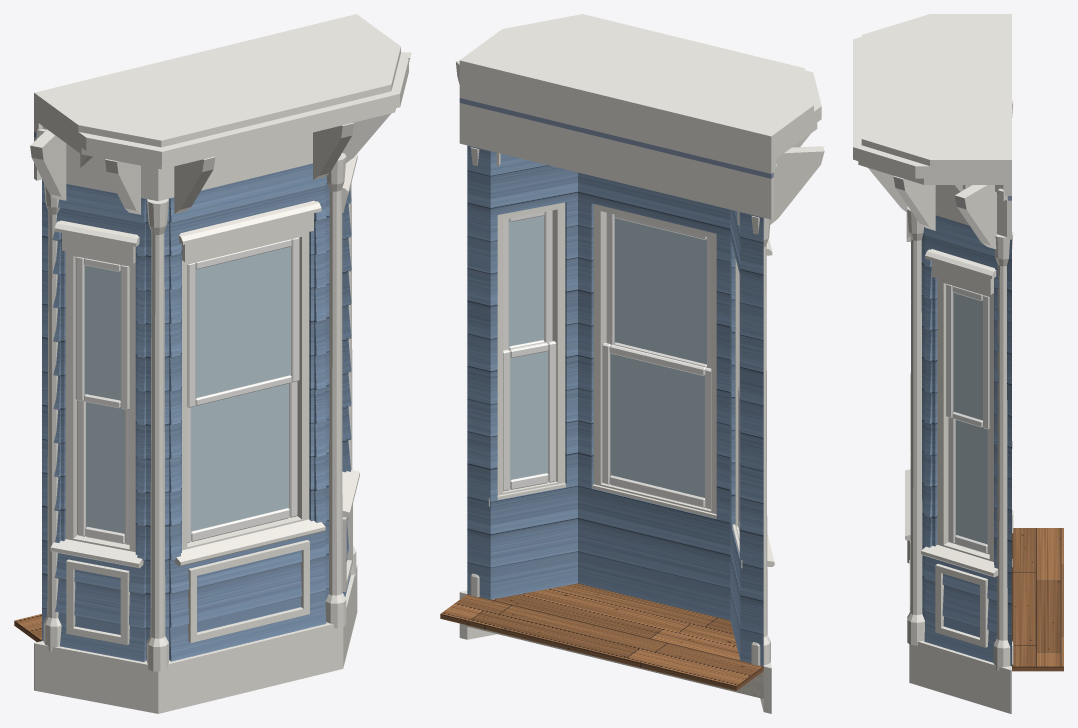
File: bay_u_d.glb
The picture shows the model from 3 angles, left to right: view 1: azimuth 30°, elevation 25°; view 2: azimuth 150°, elevation 25°; view 3: azimuth 270°, elevation 25°; orthographic projection. The views are drawn at different scales.
Visible parts, largest first — view 1: bay_u_d_trim, bay_u_d_siding_d, bay_u_d_glass, bay_u_d_sash, bay_u_d_frame; view 2: bay_u_d_siding_d, bay_u_d_trim, bay_u_d_glass, bay_u_d_floor, bay_u_d_frame, bay_u_d_sash, bay_u_d_acc_d, bay_u_d_plaster; view 3: bay_u_d_trim, bay_u_d_siding_d, bay_u_d_floor, bay_u_d_glass, bay_u_d_frame, bay_u_d_sash.
Part boxes in pixels (x1,y1,x2,y2): bay_u_d_trim: [30, 14, 411, 713]; bay_u_d_siding_d: [42, 152, 351, 661]; bay_u_d_glass: [84, 246, 290, 533]; bay_u_d_sash: [75, 237, 299, 545]; bay_u_d_frame: [65, 213, 342, 551]; bay_u_d_siding_d: [467, 145, 763, 666]; bay_u_d_trim: [455, 14, 824, 713]; bay_u_d_glass: [509, 215, 706, 497]; bay_u_d_floor: [440, 583, 763, 690]; bay_u_d_frame: [497, 202, 739, 540]; bay_u_d_sash: [503, 210, 739, 530]; bay_u_d_acc_d: [459, 98, 773, 178]; bay_u_d_plaster: [467, 625, 763, 698]; bay_u_d_trim: [853, 14, 1013, 713]; bay_u_d_siding_d: [921, 215, 1011, 666]; bay_u_d_floor: [1012, 528, 1063, 671]; bay_u_d_glass: [953, 292, 987, 544]; bay_u_d_frame: [937, 278, 993, 561]; bay_u_d_sash: [946, 283, 989, 554].
Bounding box in the file's own units: 2.37 × 3.54 × 1.22.
Materials: 8 (3 with a texture image).
